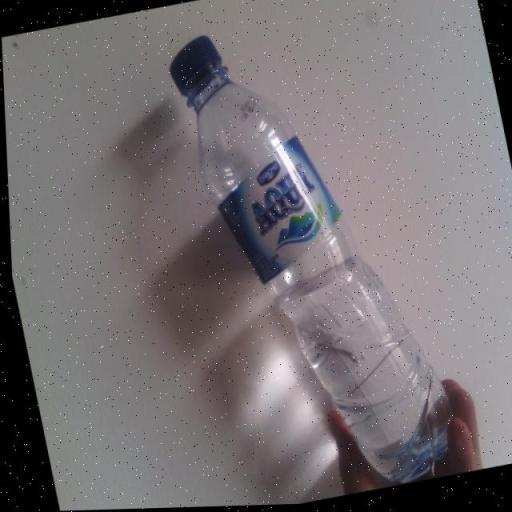plastic: (168, 37, 449, 487)
